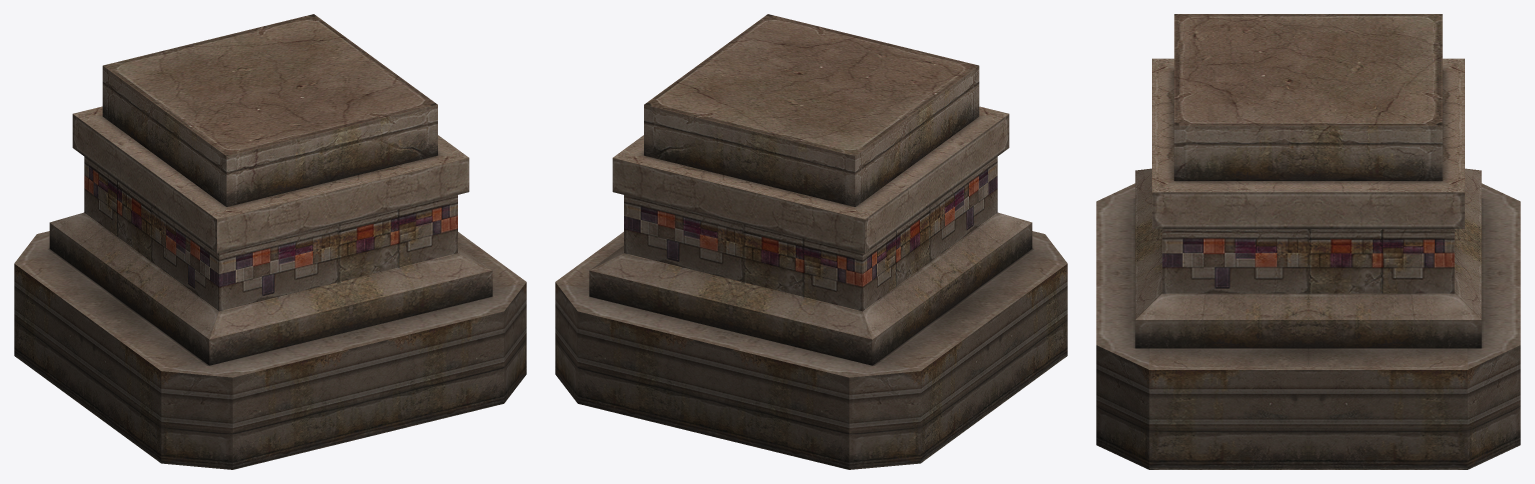
The model's file is mod_zhuzi_001.FBX.
3 renders of one model, left to right at view 1: azimuth 30°, elevation 25°; view 2: azimuth 150°, elevation 25°; view 3: azimuth 270°, elevation 25°, orthographic. The views are drawn at different scales.
Parts seen in each view (by area): view 1: mod_zhuzi_001; view 2: mod_zhuzi_001; view 3: mod_zhuzi_001.
Boxes of the visible parts, x1,y1,x2,y2 form: mod_zhuzi_001: [14, 14, 526, 469]; mod_zhuzi_001: [555, 14, 1067, 469]; mod_zhuzi_001: [1096, 14, 1520, 469].
Bounding box in the file's own units: 161 × 118 × 149.
1 material, 1 textured.
